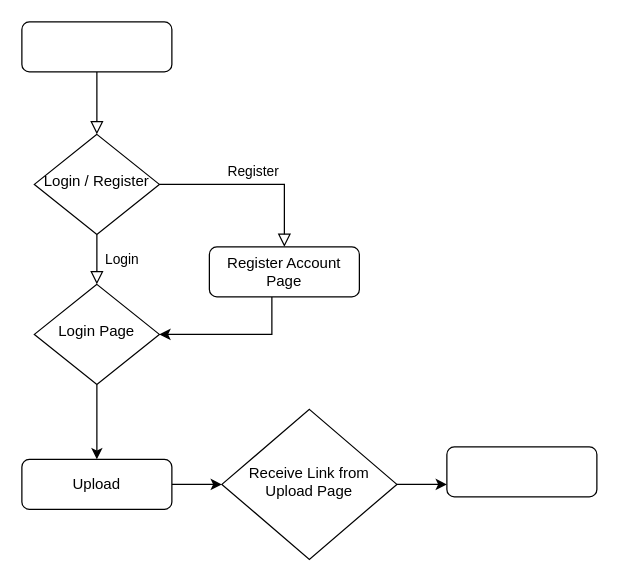
Image size: 619x581. Some labels were removed from this diagram. The shapes that lost their labels are listed below. From the top down, each one's centre as x and y in pixels, then its label:
At pixel 96 46: "FileUpload Homepage".
At pixel 521 471: "FileUpload Download Page".
